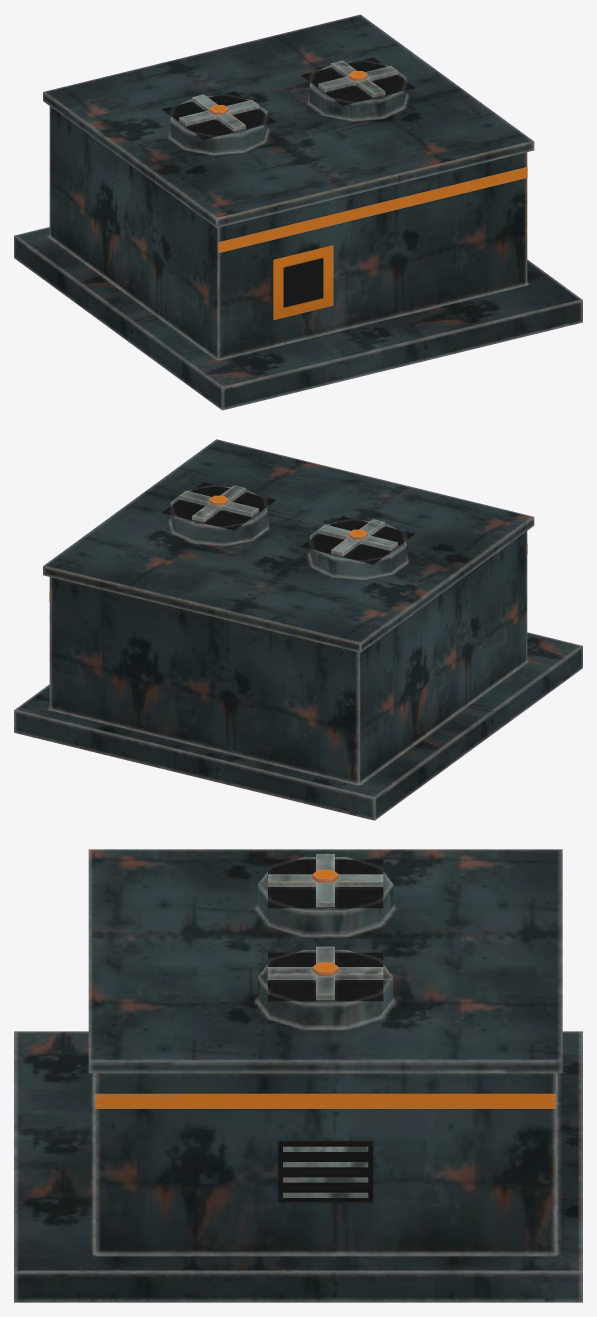
The model's file is rtg.glb.
3 renders of one model, top to bottom at view 1: azimuth 30°, elevation 25°; view 2: azimuth 150°, elevation 25°; view 3: azimuth 270°, elevation 25°, orthographic. The views are drawn at different scales.
Parts seen in each view (by area): view 1: te_rtg, move_fan_2, move_fan_1; view 2: te_rtg, move_fan_1, move_fan_2; view 3: te_rtg, move_fan_2, move_fan_1.
Part boxes in pixels (x1,y1,x2,y2): te_rtg: (14, 14, 582, 410); move_fan_2: (318, 60, 397, 97); move_fan_1: (179, 94, 258, 131); te_rtg: (14, 439, 582, 820); move_fan_1: (318, 519, 397, 556); move_fan_2: (179, 485, 258, 522); te_rtg: (14, 849, 582, 1302); move_fan_2: (268, 946, 383, 1000); move_fan_1: (268, 854, 383, 907).
Size of the model in its own units: 0.84 by 0.426 by 0.84.
Materials: 1 (1 with a texture image).
